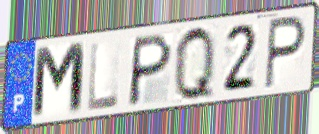2: (219, 22, 262, 95)
L: (87, 39, 121, 114)
M: (30, 40, 88, 123)
P: (125, 30, 175, 108), (262, 13, 308, 92)
Q: (173, 22, 217, 103)
